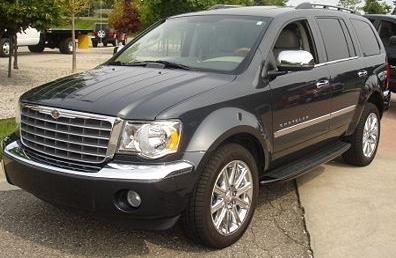front_view: (10, 114, 188, 213)
headlight: (111, 113, 186, 165)
side_glass: (277, 17, 357, 65)
